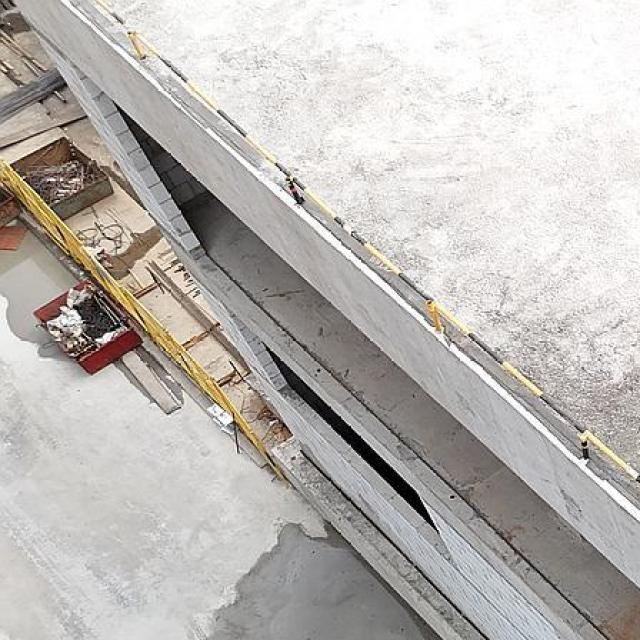edge_guardrail: (93, 0, 640, 486)
